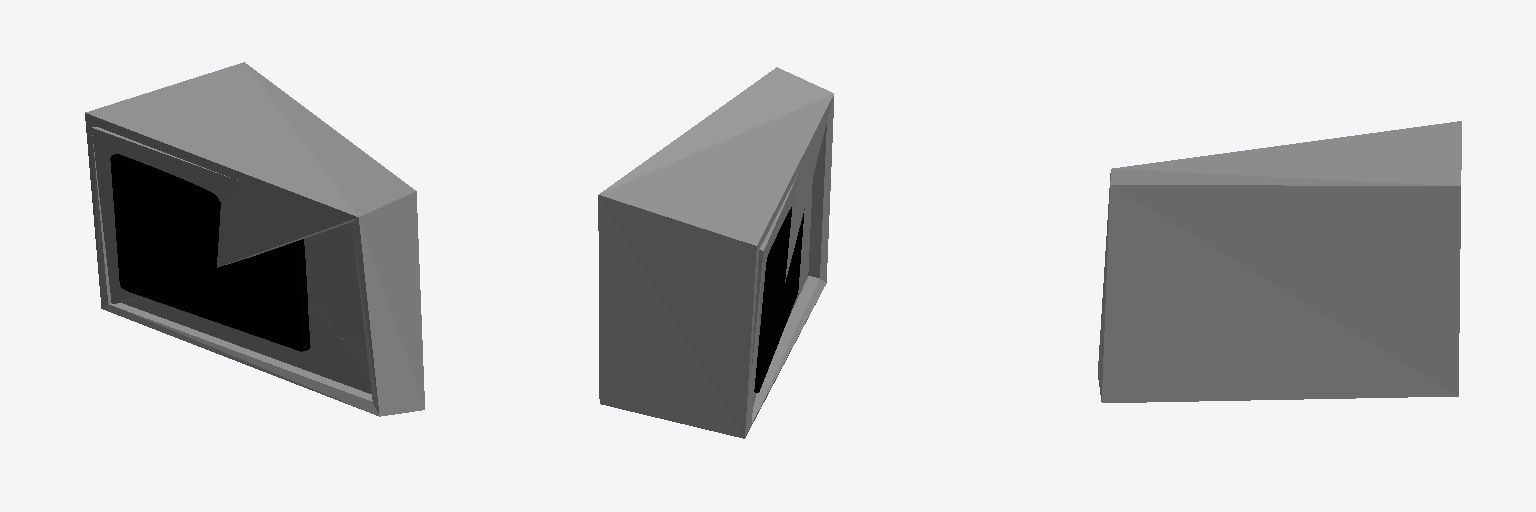
File: office_speaker.obj
3 renders of one model, left to right at view 1: azimuth 30°, elevation 25°; view 2: azimuth 150°, elevation 25°; view 3: azimuth 270°, elevation 25°, orthographic.
Parts seen in each view (by area): view 1: Cube, Cube.001_Cube.002; view 2: Cube, Cube.001_Cube.002; view 3: Cube.
Part boxes in pixels (x1,y1,x2,y2): Cube: (85,62,424,416); Cube.001_Cube.002: (110,154,310,351); Cube: (598,67,833,438); Cube.001_Cube.002: (754,207,804,392); Cube: (1098,121,1461,402).
Size of the model in its own units: 1.07 by 1.38 by 2.1.